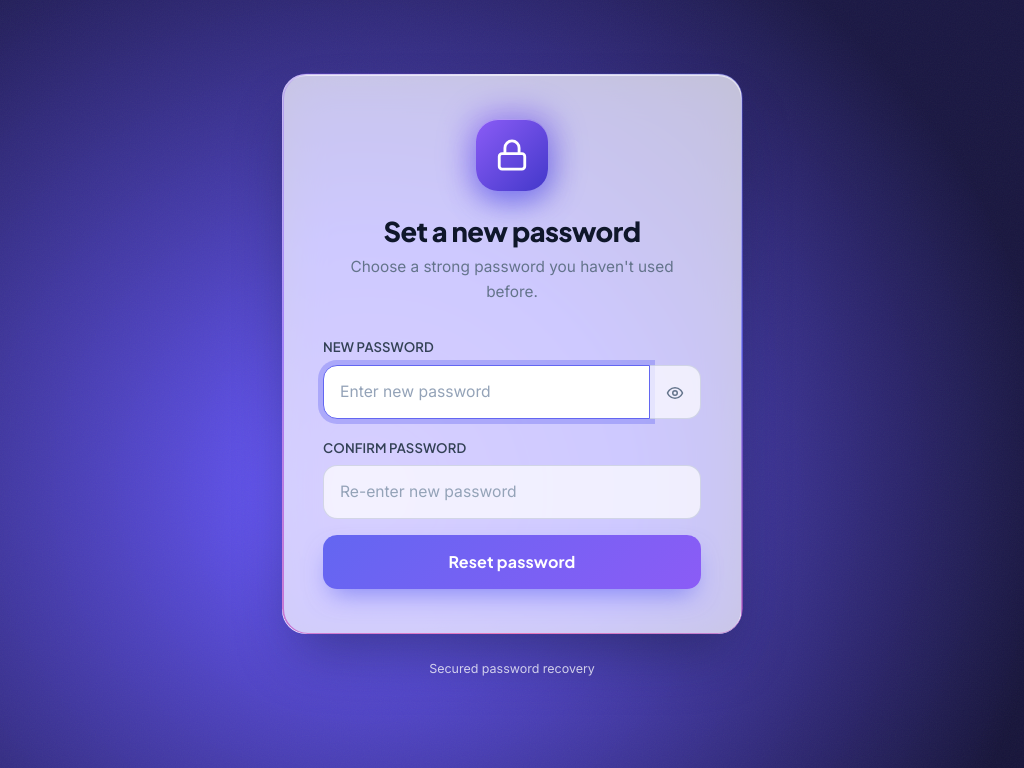
Test: ResetPassword page › mismatched passwords show an inline error
Type "abcdef1" into the password field labelled "New password". click: [486, 392]
box: [323,365,650,418]
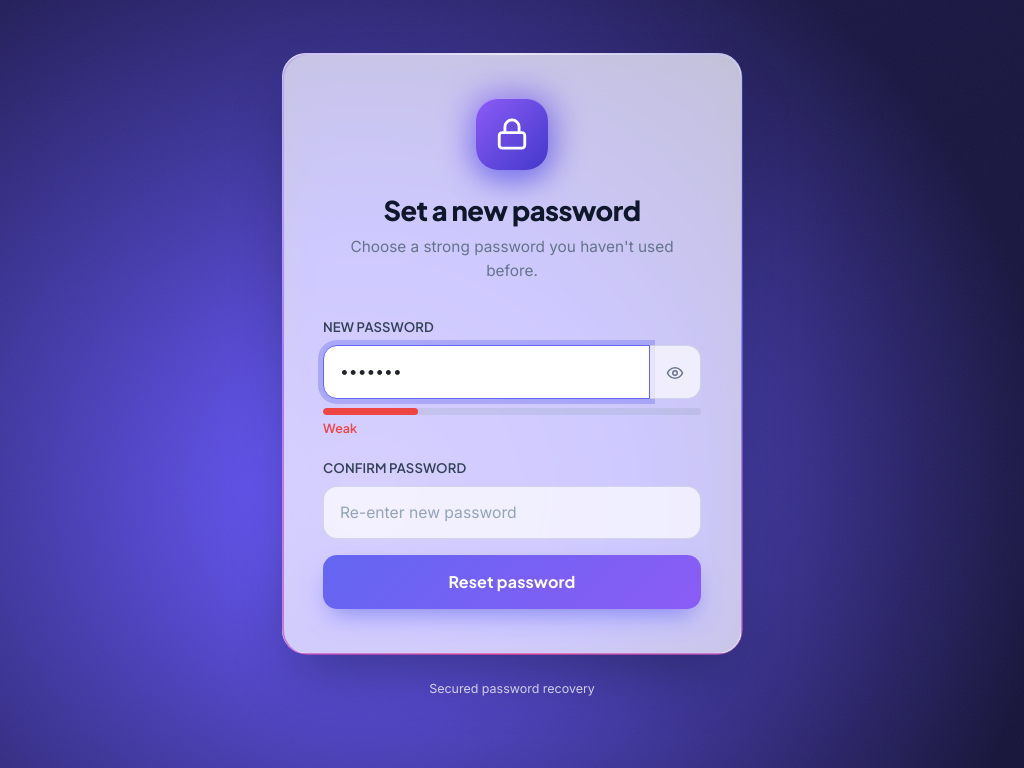
Type "different1" into the password field labelled "Confirm password". click: [512, 512]
box: [323,486,701,539]
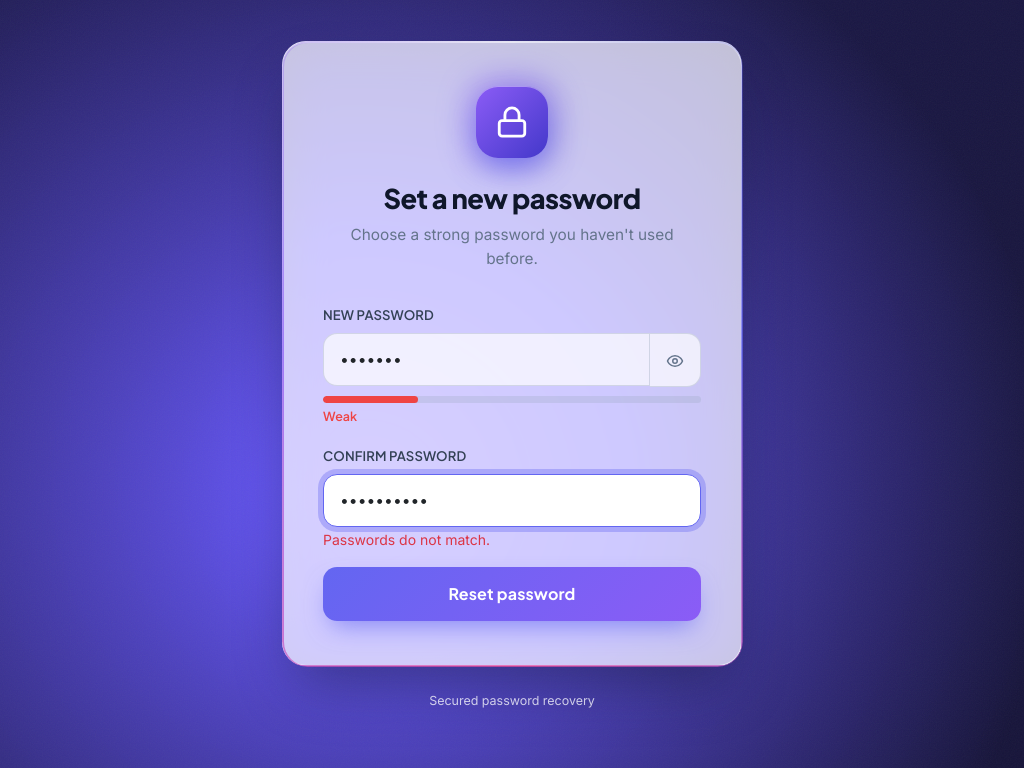
Now the text "Passwords do not match." is shown, box [323,531,490,548]
